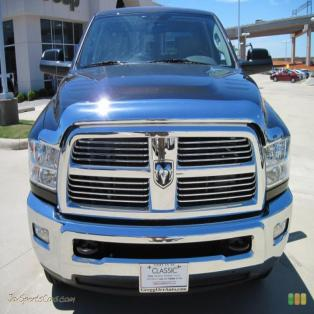Auto: (25, 8, 294, 298)
